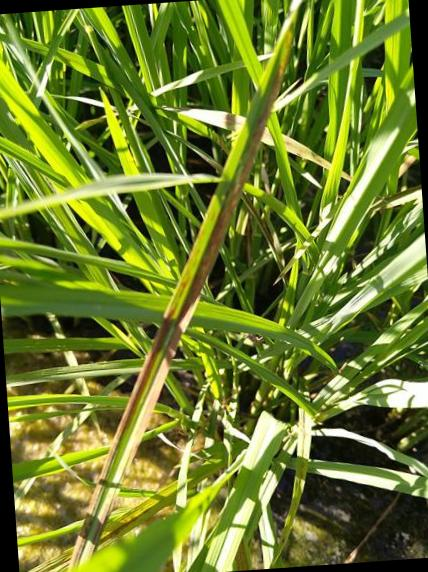Leaf Streak: (71, 16, 295, 572), (234, 540, 253, 571)
